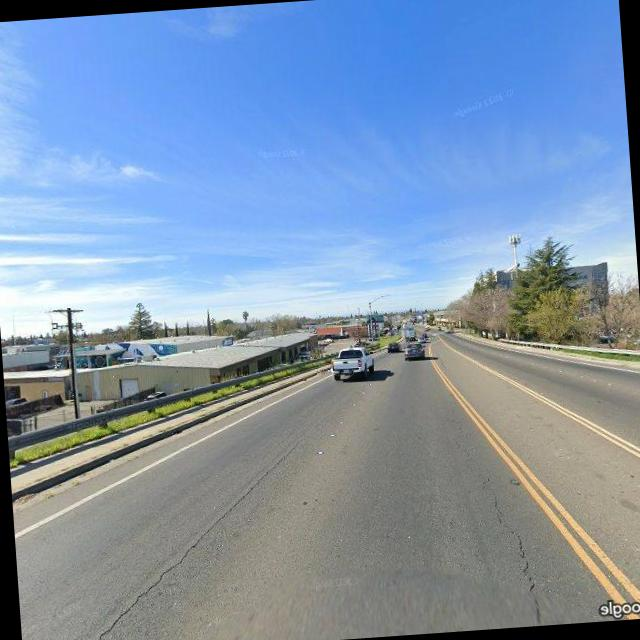pothole: (61, 440, 314, 640), (480, 458, 546, 618)
